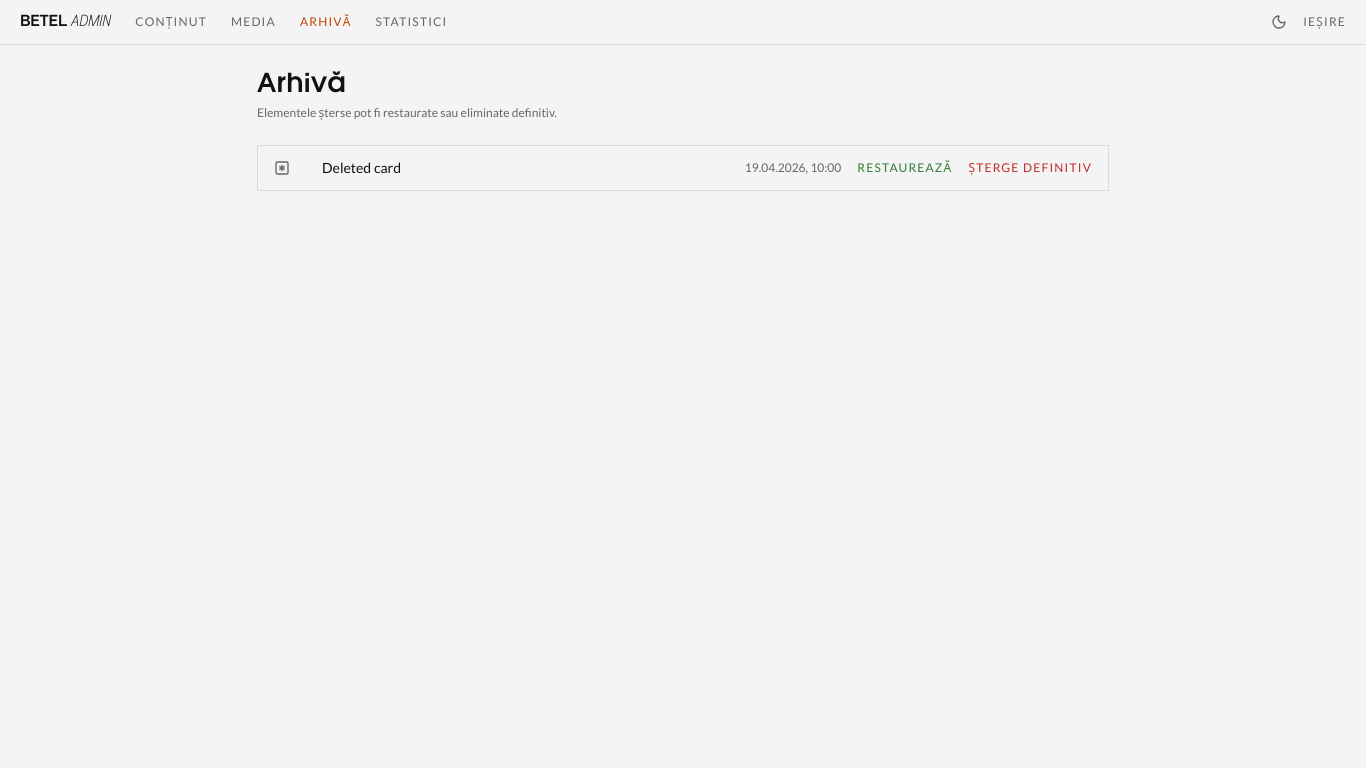
it: Admin — archive page › restores a deleted item
The width and height of the screenshot is (1366, 768).
Click the button with test id "restore-btn-item-1": click(905, 168) [857,160,952,176]
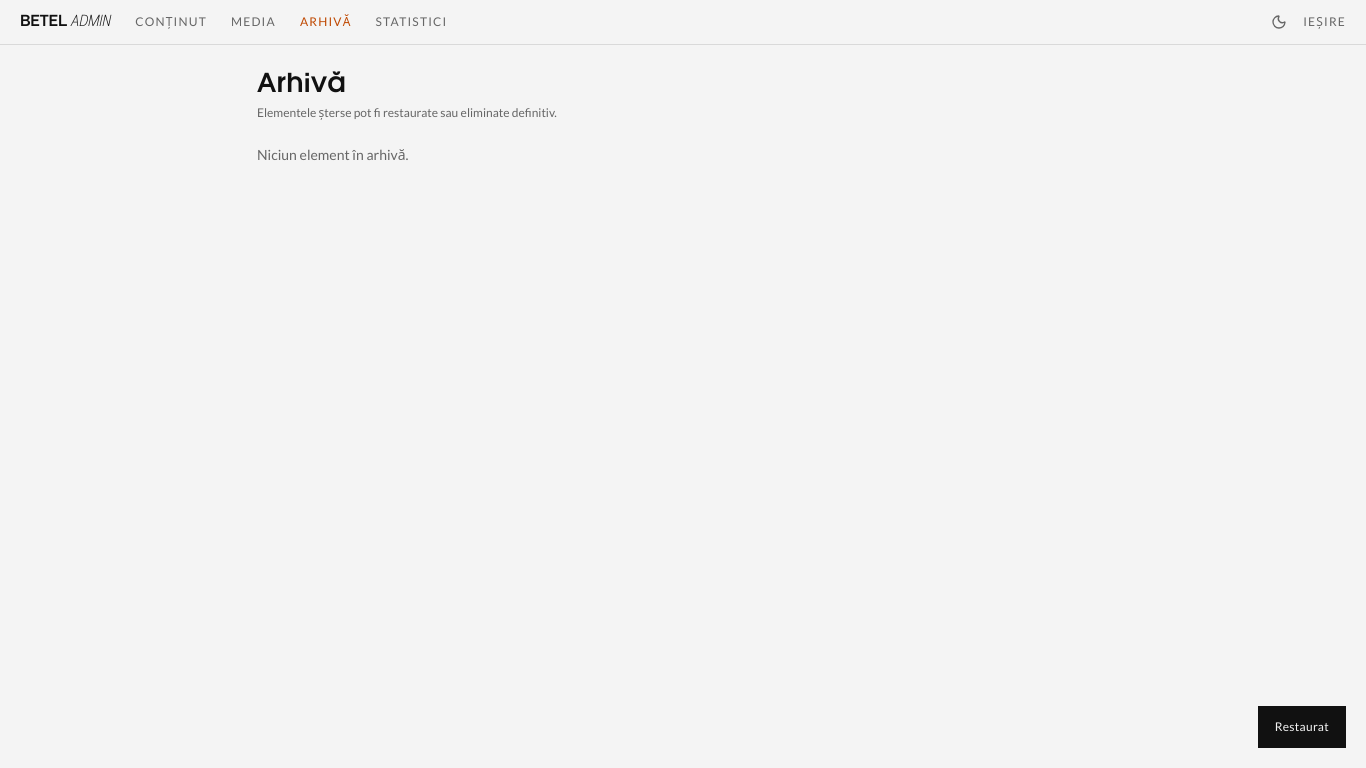
Result: the text "Niciun element în arhivă." is shown at [257,146,408,163]
